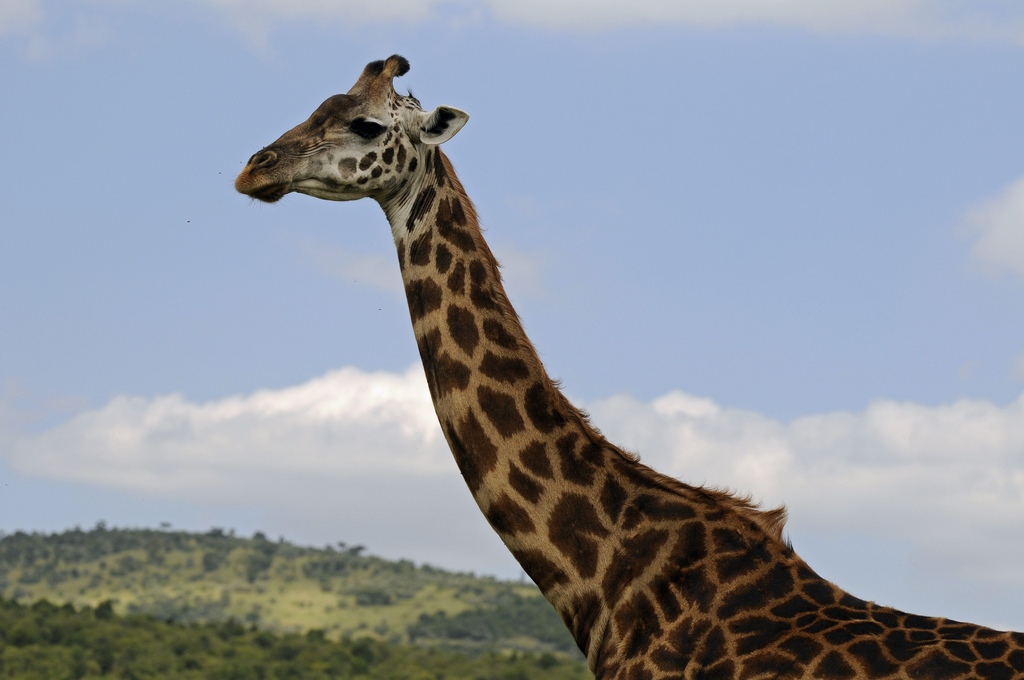giraffe: (211, 25, 877, 625)
